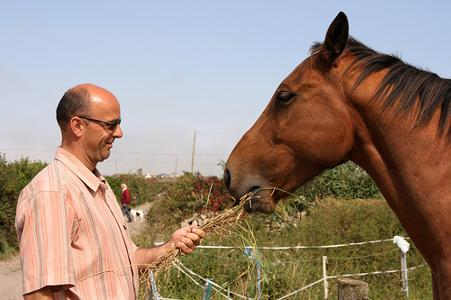person: (16, 84, 205, 300)
